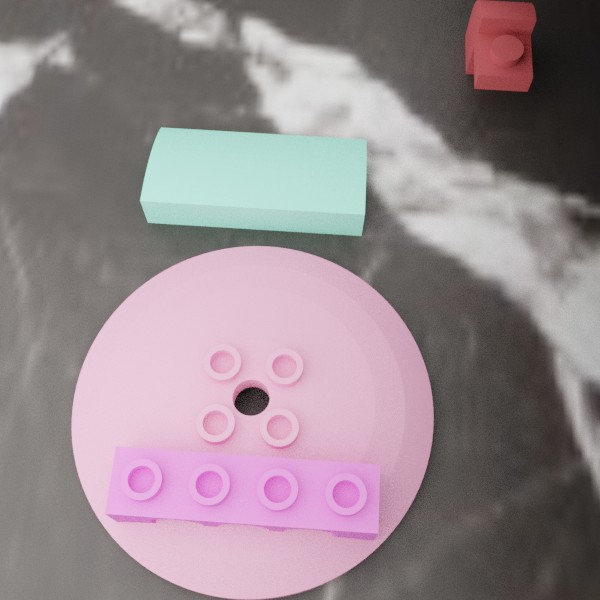lego: (71, 246, 433, 600), (104, 446, 380, 543), (140, 127, 366, 235), (465, 0, 536, 91)
